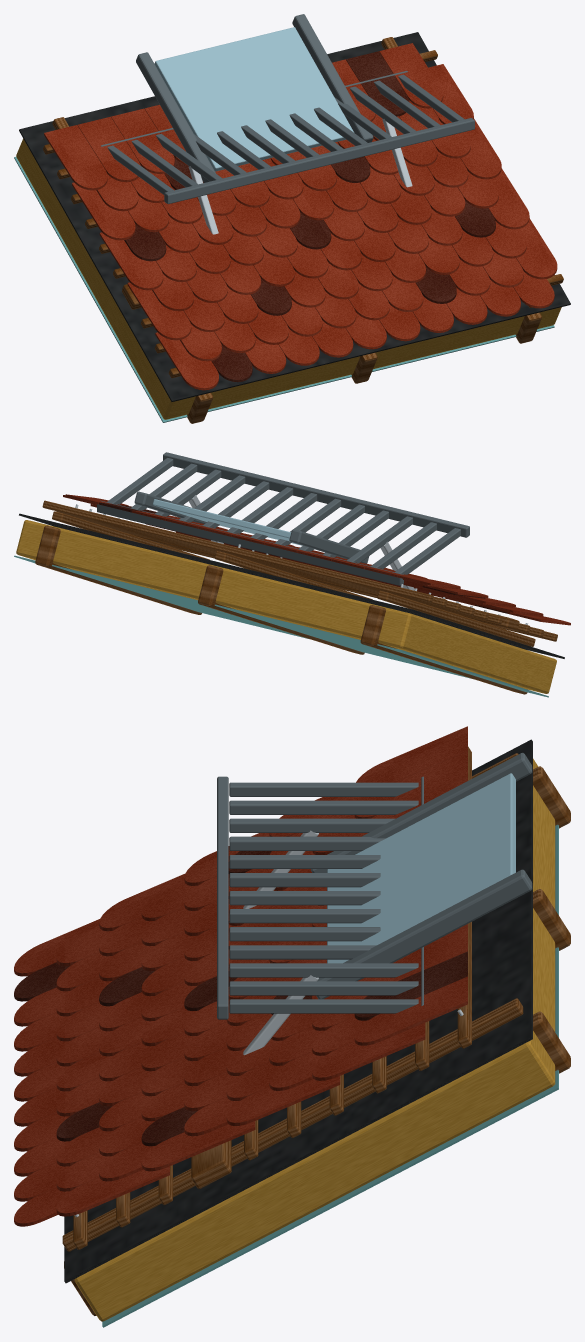
Rendered from modell.glb.
The picture shows the model from 3 angles, top to bottom: view 1: azimuth 30°, elevation 25°; view 2: azimuth 150°, elevation 25°; view 3: azimuth 270°, elevation 25°; orthographic projection. The views are drawn at different scales.
Parts seen in each view (by area): view 1: a03-deckziegel_deckung, a03-ausstieg_, a03-tritt_, a03-zusatzebene_zusatzebene, a03-daemmung_daemmung, a03-deckziegel_deckung.001, a03-ausstieg_.001, a03-luftdichtheit_luftdichtheit, a03-sparren_tragwerk, a03-lattung_lattung, a03-halter_; view 2: a03-daemmung_daemmung, a03-tritt_, a03-lattung_lattung, a03-deckziegel_deckung, a03-sparren_tragwerk, a03-luftdichtheit_luftdichtheit, a03-zusatzebene_zusatzebene, a03-ausstieg_.001, a03-ausstieg_, a03-befestigungsuntergrund_lattung, a03-deckziegel_deckung.001, a03-halter_; view 3: a03-deckziegel_deckung, a03-tritt_, a03-daemmung_daemmung, a03-zusatzebene_zusatzebene, a03-ausstieg_, a03-lattung_lattung, a03-deckziegel_deckung.001, a03-ausstieg_.001, a03-luftdichtheit_luftdichtheit, a03-sparren_tragwerk, a03-befestigungsuntergrund_lattung, a03-halter_.
Boxes of the visible parts, x1,y1,x2,y2 form: a03-deckziegel_deckung: [44, 43, 557, 390]; a03-ausstieg_: [154, 27, 354, 171]; a03-tritt_: [101, 70, 474, 204]; a03-zusatzebene_zusatzebene: [19, 32, 570, 401]; a03-daemmung_daemmung: [16, 138, 561, 419]; a03-deckziegel_deckung.001: [124, 51, 495, 382]; a03-ausstieg_.001: [136, 14, 373, 182]; a03-luftdichtheit_luftdichtheit: [14, 157, 554, 422]; a03-sparren_tragwerk: [187, 312, 541, 423]; a03-lattung_lattung: [43, 37, 563, 378]; a03-halter_: [188, 119, 412, 234]; a03-daemmung_daemmung: [16, 520, 556, 693]; a03-tritt_: [97, 452, 469, 585]; a03-lattung_lattung: [42, 500, 557, 646]; a03-deckziegel_deckung: [63, 494, 570, 625]; a03-sparren_tragwerk: [35, 525, 527, 694]; a03-luftdichtheit_luftdichtheit: [14, 555, 548, 697]; a03-zusatzebene_zusatzebene: [19, 513, 564, 658]; a03-ausstieg_.001: [134, 491, 369, 563]; a03-ausstieg_: [152, 499, 302, 545]; a03-befestigungsuntergrund_lattung: [128, 533, 519, 630]; a03-deckziegel_deckung.001: [99, 502, 507, 613]; a03-halter_: [188, 495, 414, 590]; a03-deckziegel_deckung: [14, 726, 467, 1226]; a03-tritt_: [217, 776, 424, 1019]; a03-daemmung_daemmung: [75, 758, 555, 1321]; a03-zusatzebene_zusatzebene: [64, 739, 532, 1283]; a03-ausstieg_: [327, 773, 515, 963]; a03-lattung_lattung: [62, 746, 523, 1251]; a03-deckziegel_deckung.001: [14, 851, 467, 1146]; a03-ausstieg_.001: [311, 752, 532, 999]; a03-luftdichtheit_luftdichtheit: [102, 824, 558, 1327]; a03-sparren_tragwerk: [64, 766, 570, 1315]; a03-befestigungsuntergrund_lattung: [191, 1140, 231, 1188]; a03-halter_: [243, 830, 318, 1055].
Size of the model in its own units: 2.14 by 1.26 by 1.69.
Materials: 9 (5 with a texture image).
